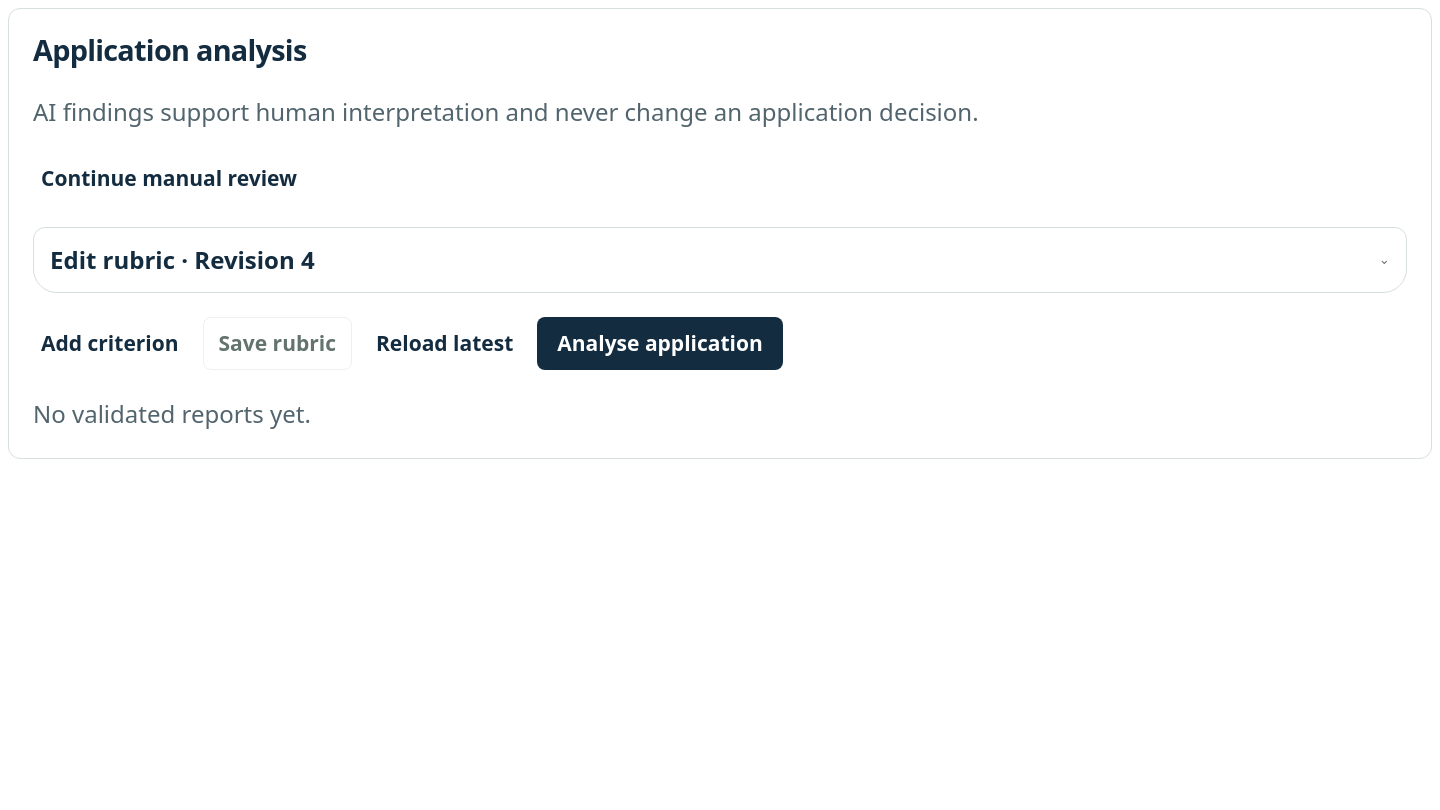
it: organiser application analysis acceptance › AC01 and F10-AC01 show pending then running status and accept cancellation
Check: the heading "Application analysis" is shown, box [33, 30, 306, 69]
Click the button "Analyse application" at (660, 343), box [537, 317, 783, 370]
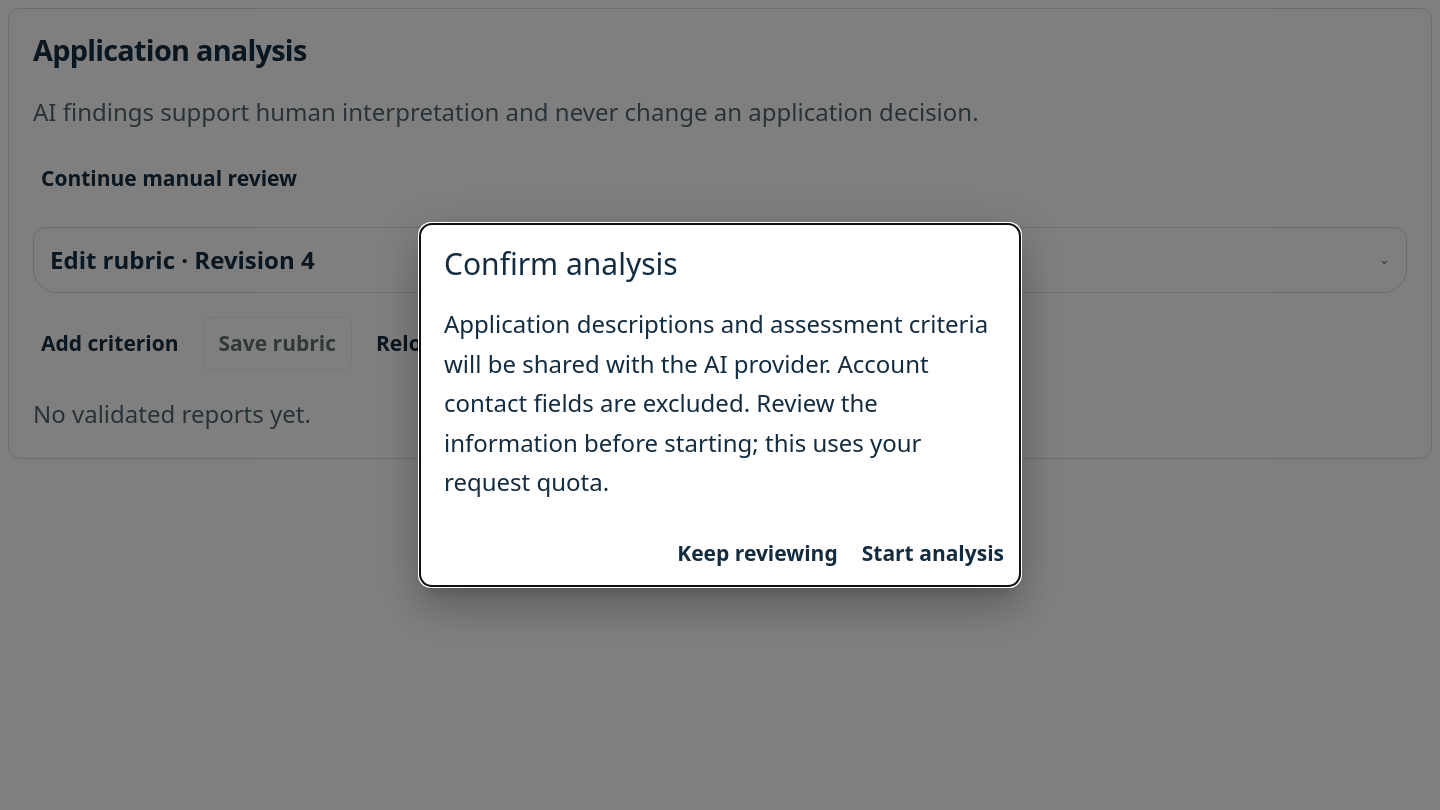
Click the button "Start analysis" at (933, 554), box [854, 530, 1012, 578]
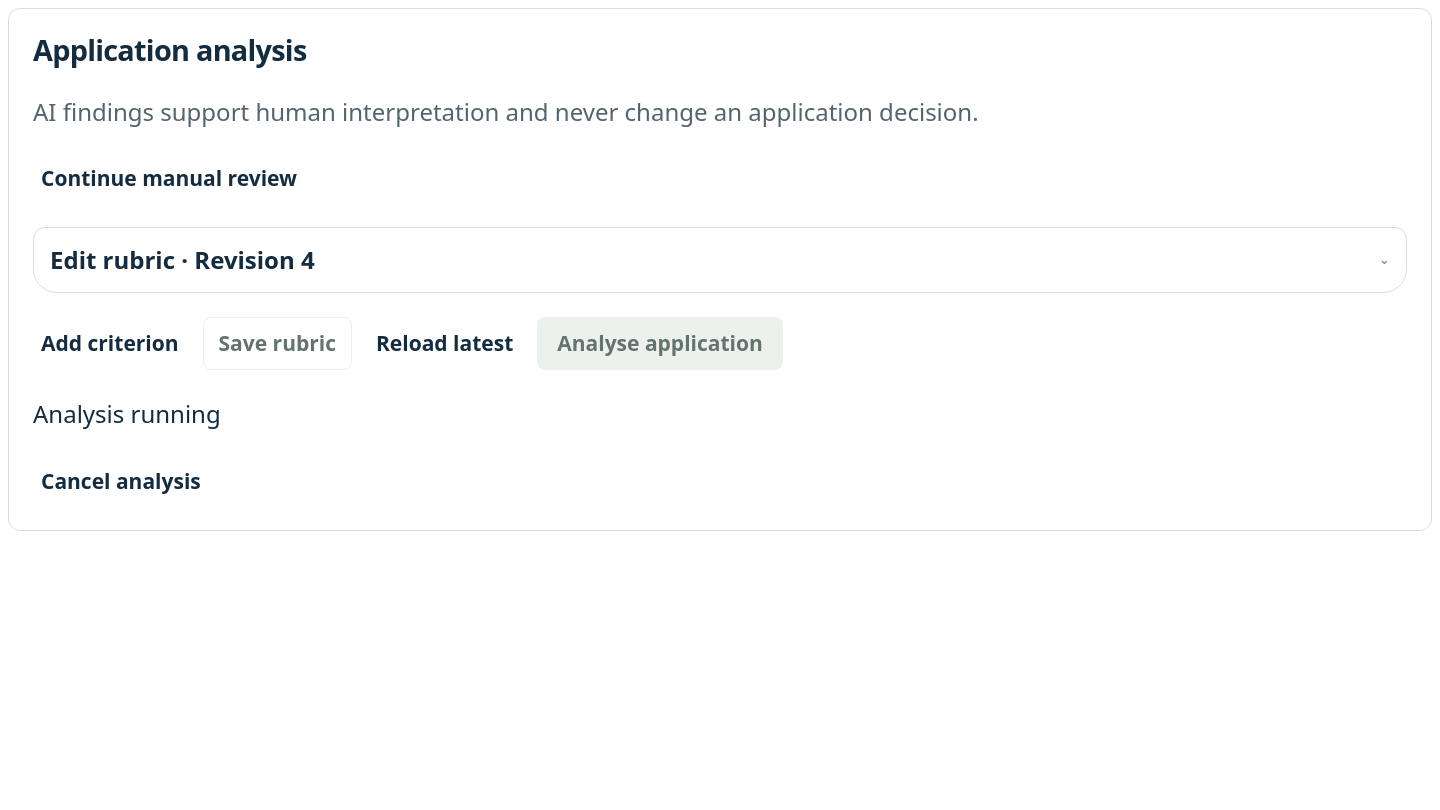
Check: the text "Analysis running" is shown, box [33, 397, 221, 430]
Click the button "Cancel analysis" at (121, 482), box [33, 458, 209, 506]
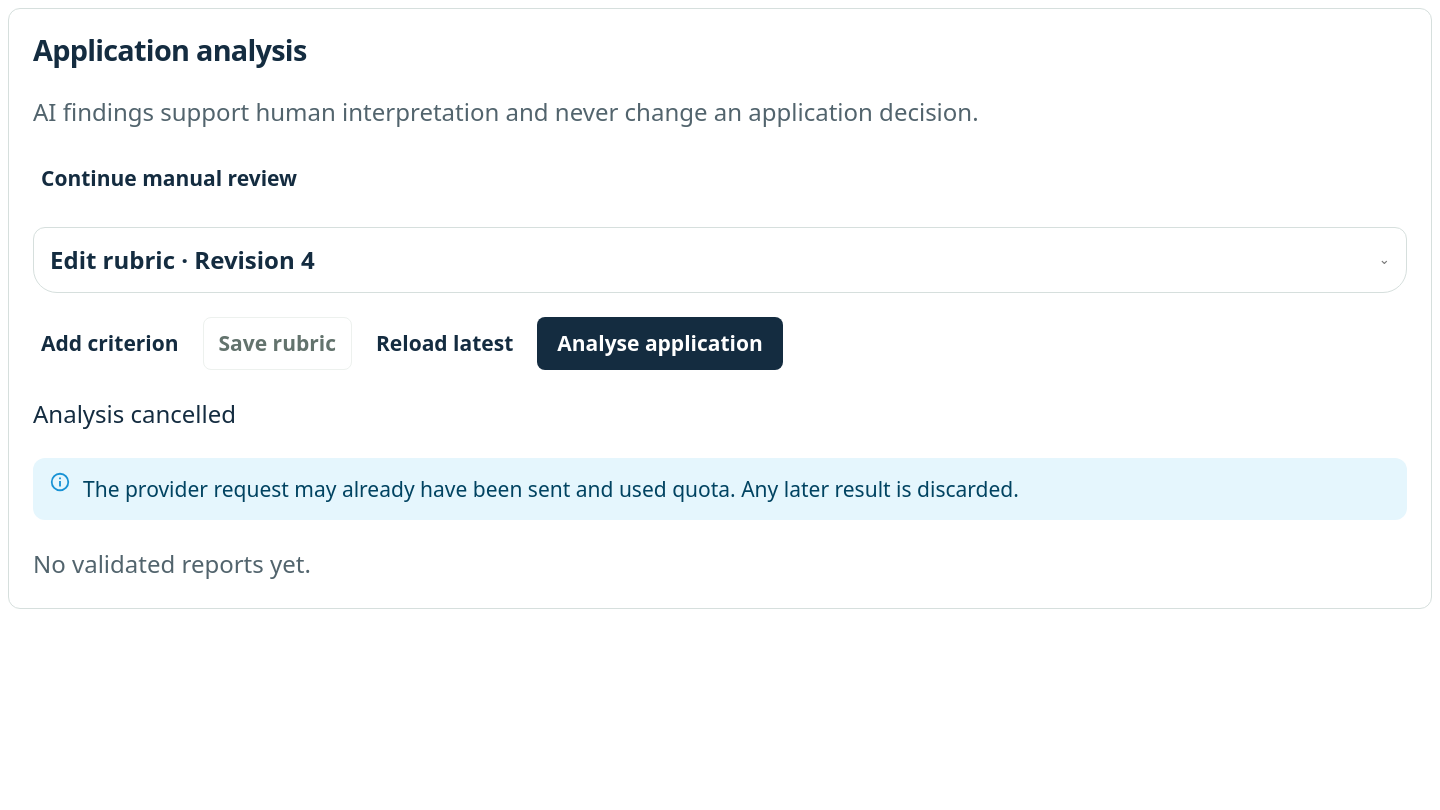
Check: the text "Analysis cancelled" is shown, box [33, 397, 236, 430]
